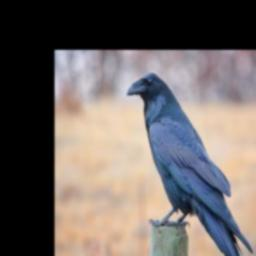Crow: (124, 70, 253, 256)
